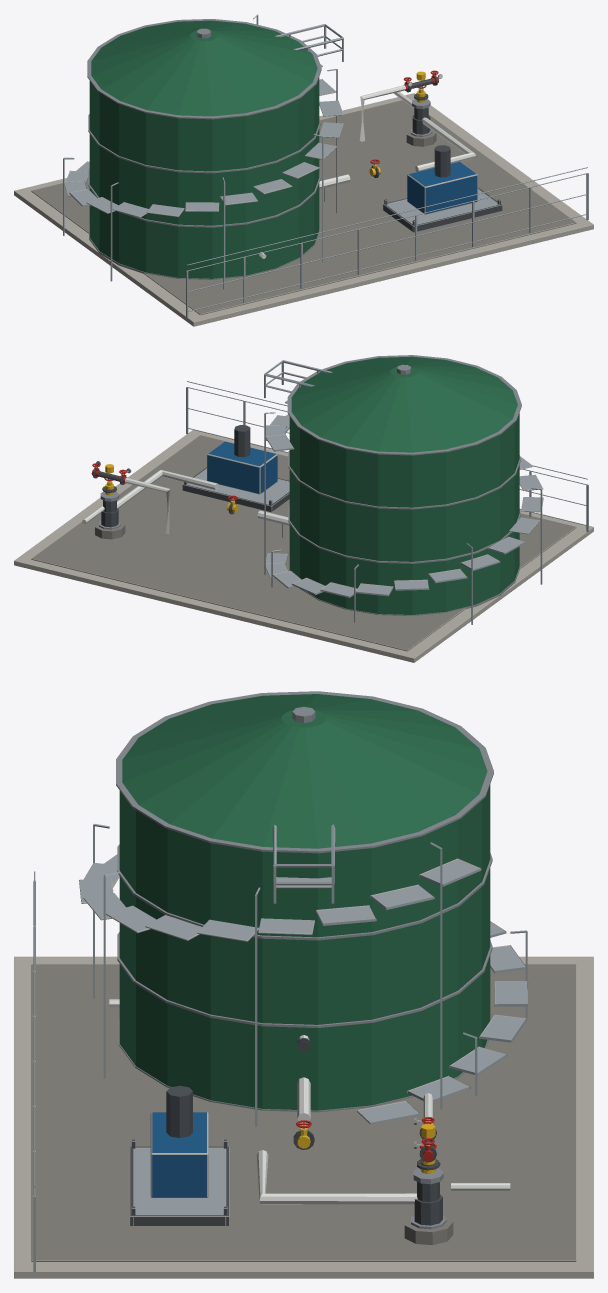
Rendered from on_saltwater_disposal.glb.
3 views of the same model, one above another, from view 1: azimuth 30°, elevation 25°; view 2: azimuth 150°, elevation 25°; view 3: azimuth 270°, elevation 25° (orthographic). The views are drawn at different scales.
Visible parts, largest first — view 1: on_saltwater_disposal; view 2: on_saltwater_disposal; view 3: on_saltwater_disposal.
Part boxes in pixels (x1,y1,x2,y2): on_saltwater_disposal: (14, 14, 593, 326); on_saltwater_disposal: (14, 355, 593, 662); on_saltwater_disposal: (14, 691, 593, 1278).
Bounding box in the file's own units: 18.99 × 8.85 × 14.
